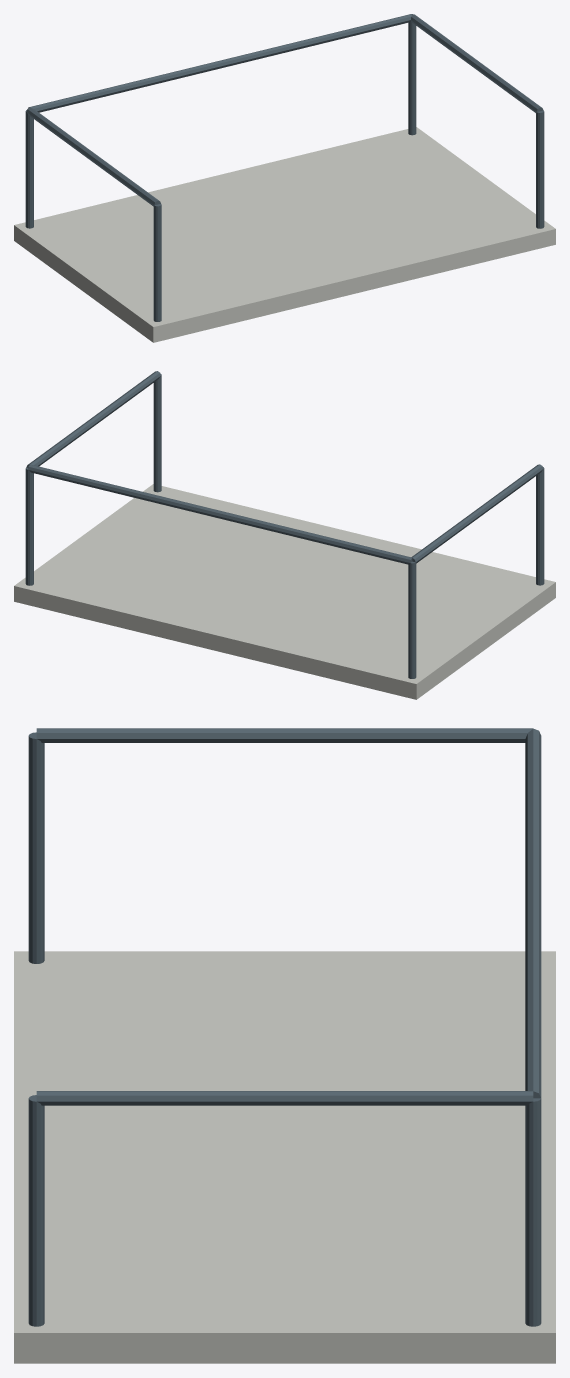
The model's file is football-soccer-club-grounds-accessible-platform-c28164f3.glb.
3 renders of one model, top to bottom at view 1: azimuth 30°, elevation 25°; view 2: azimuth 150°, elevation 25°; view 3: azimuth 270°, elevation 25°, orthographic. The views are drawn at different scales.
Parts seen in each view (by area): view 1: accessible-platform; view 2: accessible-platform; view 3: accessible-platform.
Part boxes in pixels (x1=…): accessible-platform: x1=14, y1=14, x2=555, y2=342; accessible-platform: x1=14, y1=371, x2=555, y2=699; accessible-platform: x1=14, y1=728, x2=555, y2=1363.
Bounding box in the file's own units: 4 × 1.28 × 2.4.
